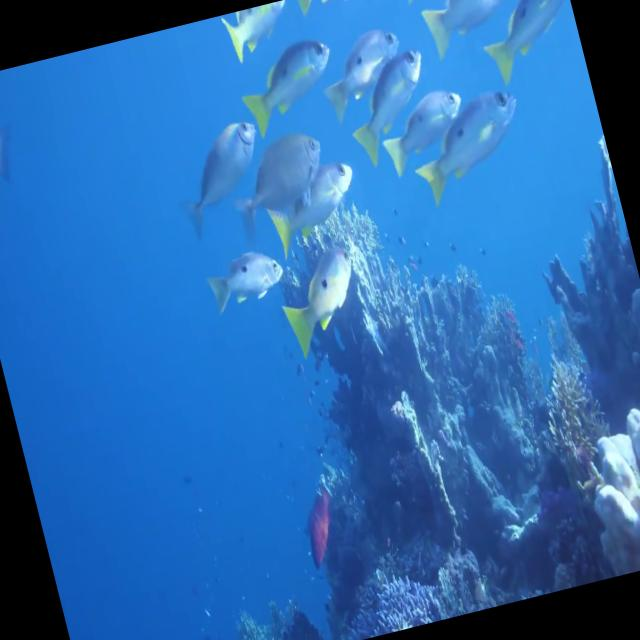fish: (399, 72, 538, 205), (160, 111, 272, 237), (336, 46, 443, 174), (267, 236, 375, 358), (222, 126, 334, 236), (234, 34, 349, 140), (312, 14, 414, 122), (373, 80, 473, 188), (466, 0, 581, 80), (410, 0, 527, 62), (204, 240, 294, 306)
